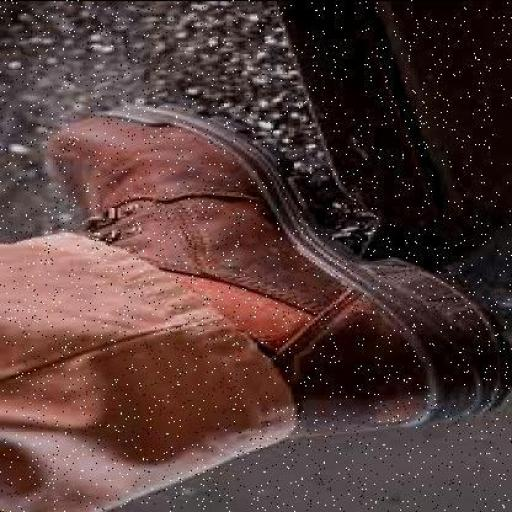safety_shoe: (57, 115, 508, 438)
